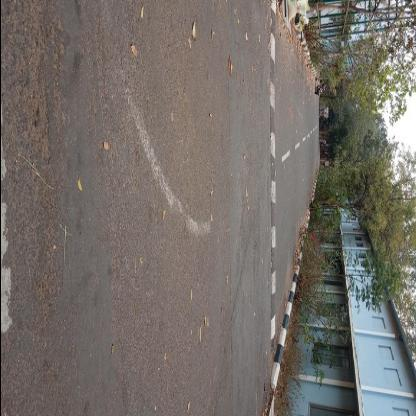speed-bumps: (263, 0, 282, 359)
